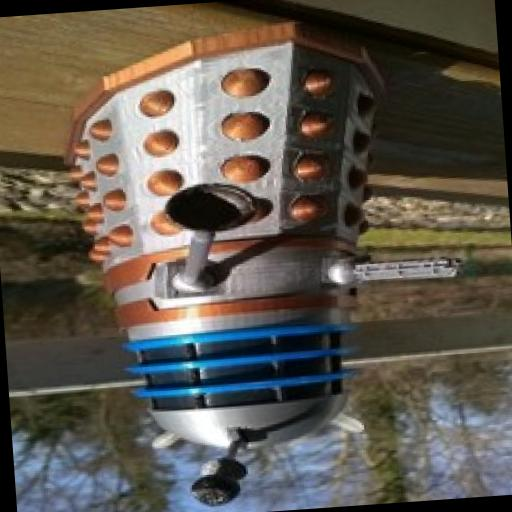dalek: (50, 11, 479, 512)
